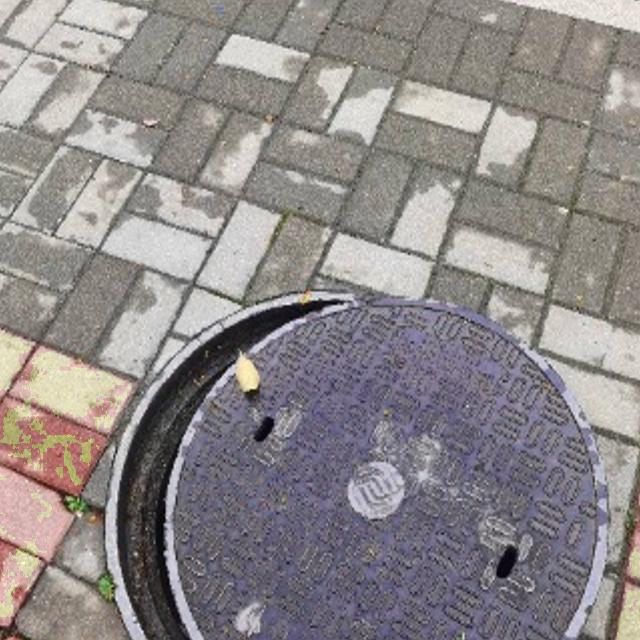uncovered: (86, 300, 621, 640)
